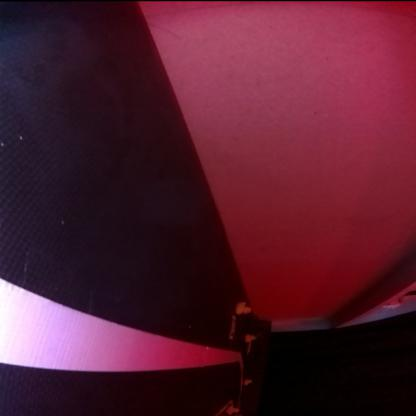Duckie: (236, 302, 252, 314), (227, 406, 240, 412), (247, 335, 257, 342), (245, 379, 252, 385)
